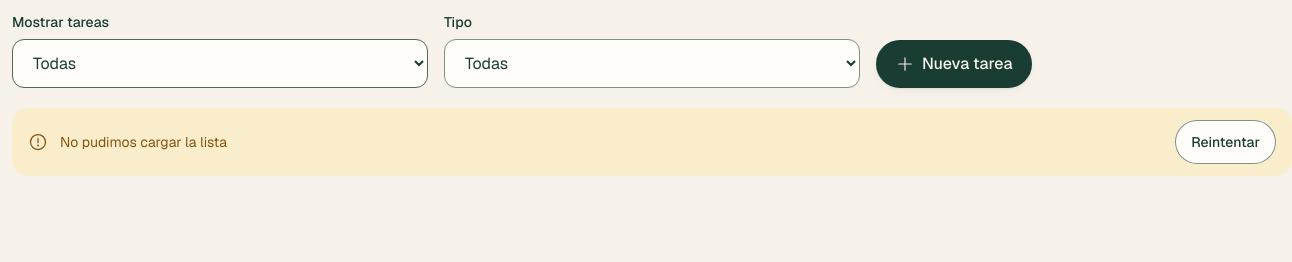
Scenario: shows an inline error with a retry when the list fails, then recovers
Expected: the message shows "No pudimos cargar la lista", [60,133,227,151]
What coordinates should you click on to do the following:
click the button "Reintentar"
I would click on:
 (1226, 142)
Its box is [1175,120,1276,164].
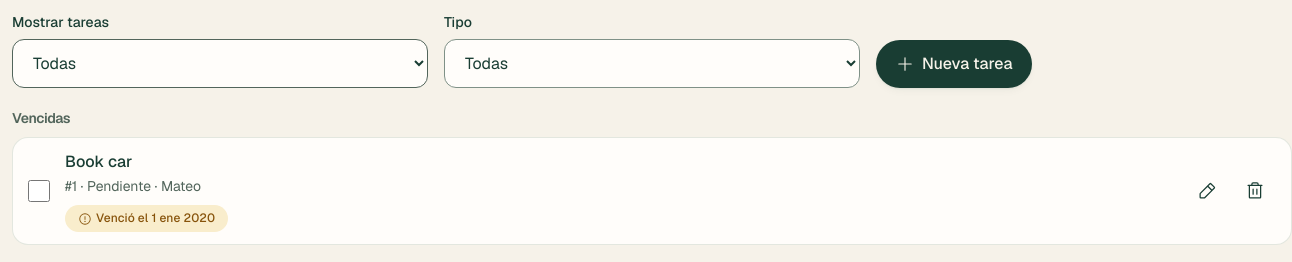
Expected: the checkbox named "Book car" is shown, [28,180,50,202]
Expected: the message "No pudimos cargar la lista Reintentar" is gone
